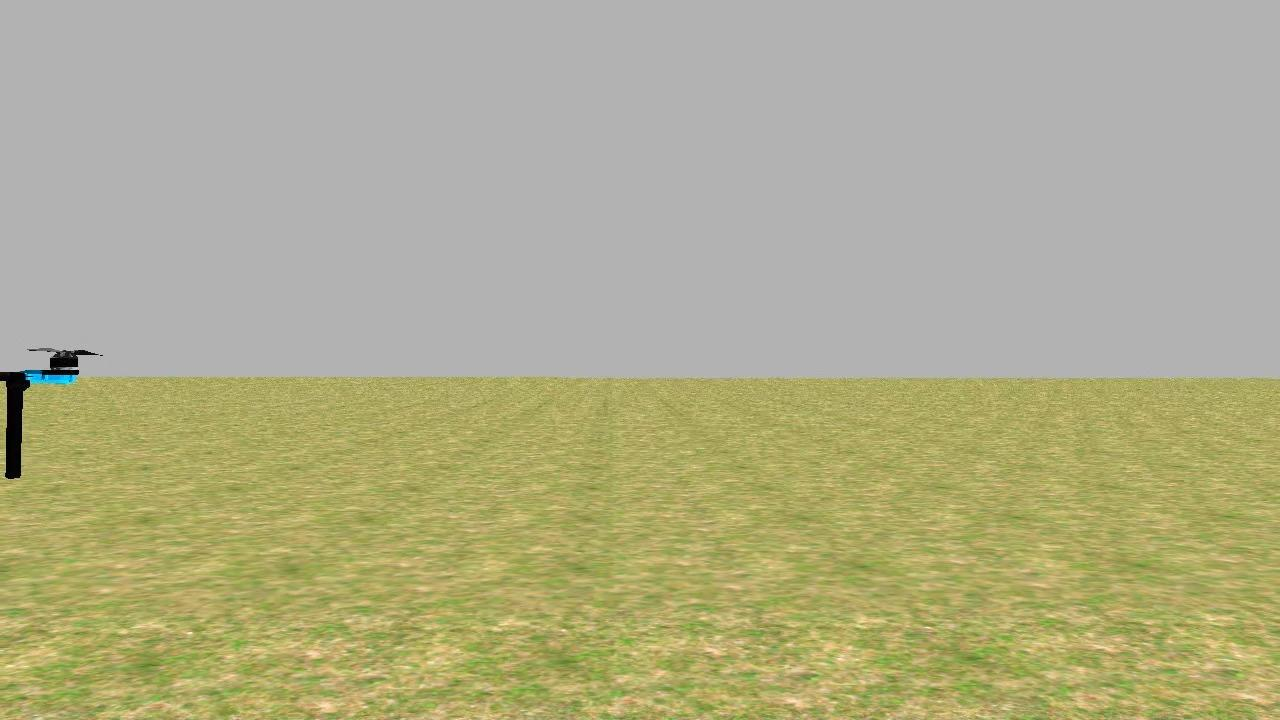UAV: (0, 333, 92, 490)
